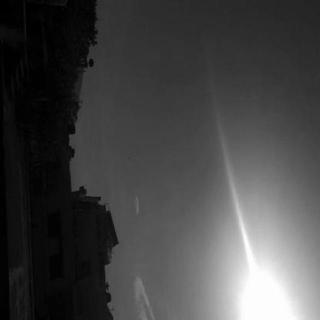other: (225, 212, 307, 320)
